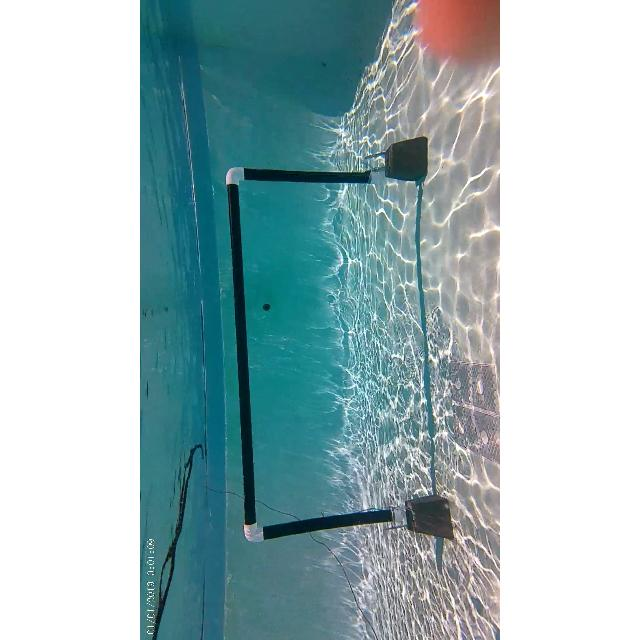prequal gate: (229, 164, 397, 542)
prequal gate leg l: (228, 504, 404, 542)
prequal gate leg r: (226, 163, 394, 207)
